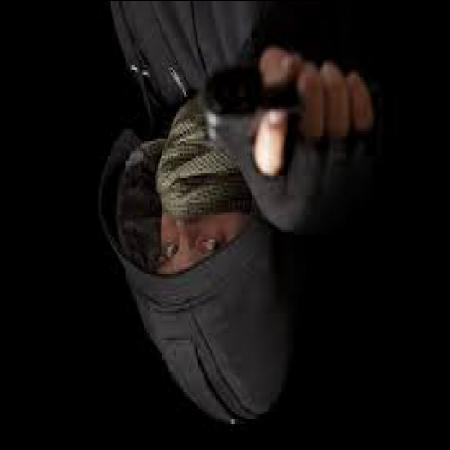Pistol: (201, 74, 360, 165)
